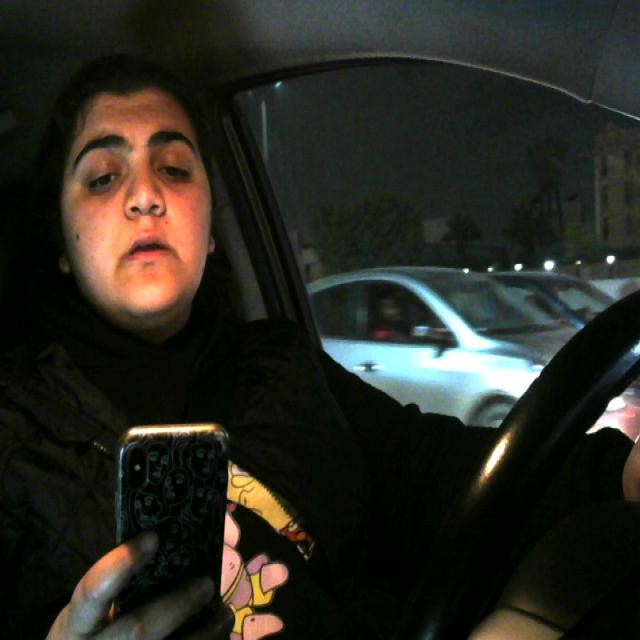mobile use: (118, 422, 240, 640)
